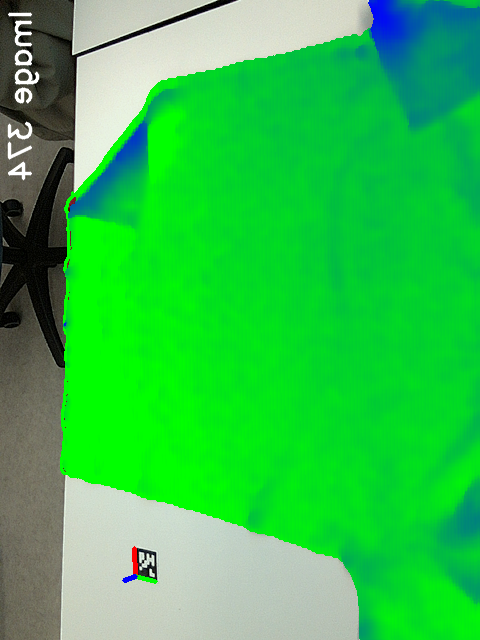V: (98, 191, 159, 242), (391, 99, 445, 140)
